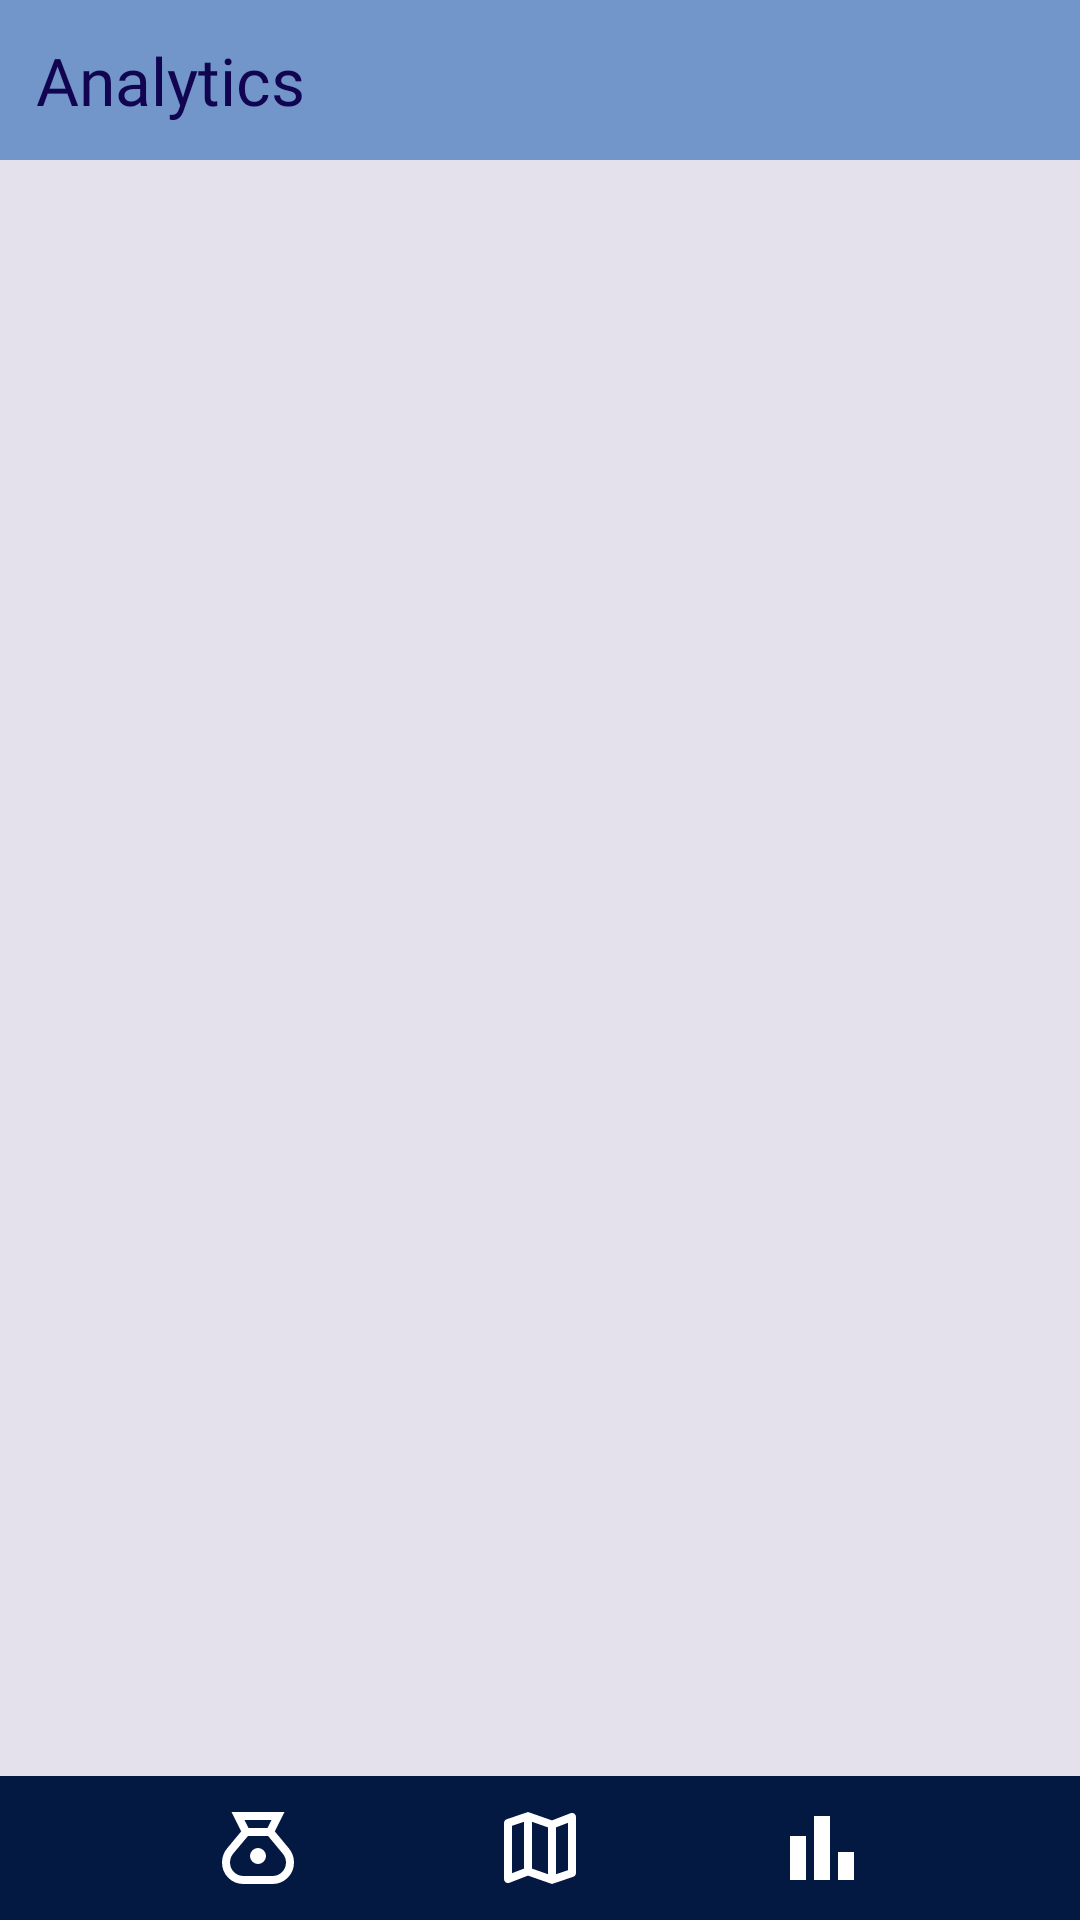

Where to tap for icons on this 1080px x 1920px app screen, as (x,y):
navigationbar barchart: (822,1848)
navigationbar map: (540,1848)
navigationbar moneybag: (258,1848)
